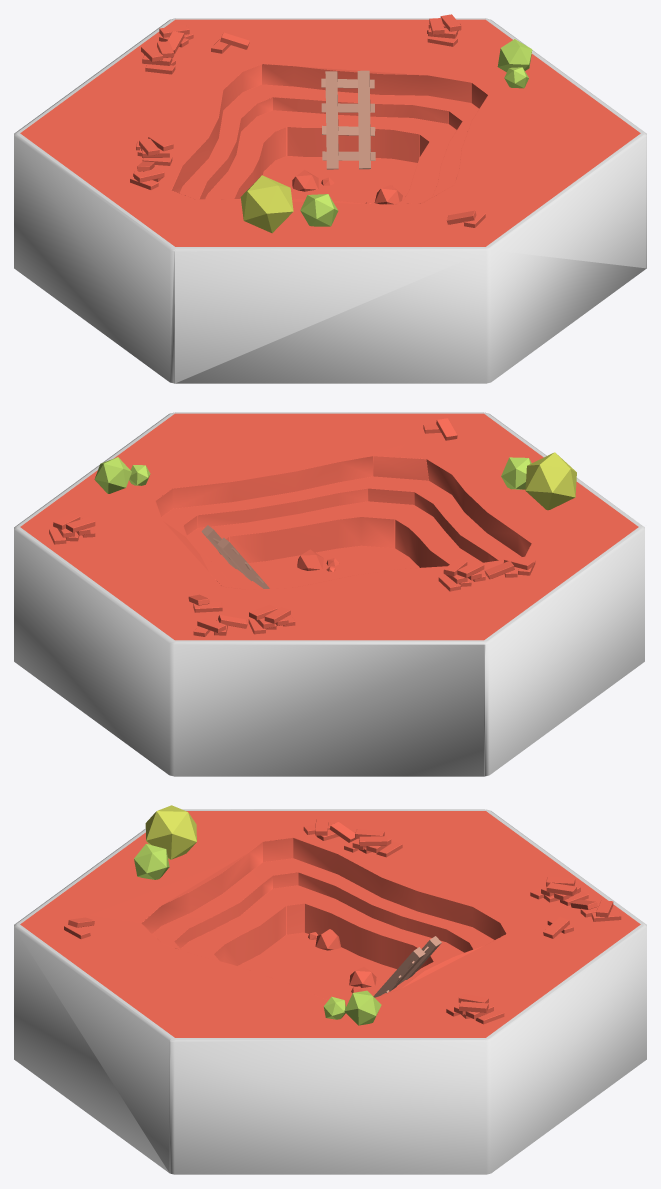
File: basetile_claypit_orig 1.fbx
3 renders of one model, top to bottom at view 1: azimuth 30°, elevation 25°; view 2: azimuth 150°, elevation 25°; view 3: azimuth 270°, elevation 25°, orthographic.
Parts seen in each view (by area): view 1: BasePlate, Cube.008, Icosphere.010, Icosphere.009, Cube.002, Cube.003, Cube.006, Icosphere.007, Cube.004, Cube.001; view 2: BasePlate, Icosphere.010, Cube.006, Cube.003, Cube.008, Cube.002, Icosphere.007, Cube.004, Cube.001, Icosphere.009; view 3: BasePlate, Icosphere.010, Cube.008, Cube.003, Cube.002, Cube.006, Icosphere.009, Icosphere.007, Cube.001, Cube.004.
Part boxes in pixels (bbox=[...]): BasePlate: bbox=[14, 18, 646, 383]; Cube.008: bbox=[321, 70, 375, 169]; Icosphere.010: bbox=[240, 175, 293, 233]; Icosphere.009: bbox=[300, 194, 338, 226]; Cube.002: bbox=[141, 41, 175, 74]; Cube.003: bbox=[136, 134, 173, 165]; Cube.006: bbox=[427, 14, 461, 46]; Icosphere.007: bbox=[497, 39, 532, 72]; Cube.004: bbox=[130, 161, 164, 189]; Cube.001: bbox=[159, 24, 193, 53]; BasePlate: bbox=[14, 412, 644, 776]; Icosphere.010: bbox=[525, 452, 576, 510]; Cube.006: bbox=[49, 513, 95, 544]; Cube.003: bbox=[438, 559, 485, 591]; Cube.008: bbox=[201, 525, 269, 588]; Cube.002: bbox=[248, 604, 295, 634]; Icosphere.007: bbox=[94, 457, 131, 493]; Cube.004: bbox=[484, 555, 535, 579]; Cube.001: bbox=[193, 614, 247, 636]; Icosphere.009: bbox=[501, 457, 531, 489]; BasePlate: bbox=[14, 809, 646, 1174]; Icosphere.010: bbox=[145, 805, 196, 859]; Cube.008: bbox=[373, 936, 441, 997]; Cube.003: bbox=[344, 829, 402, 857]; Cube.002: bbox=[530, 877, 588, 905]; Cube.006: bbox=[446, 993, 504, 1024]; Icosphere.009: bbox=[134, 844, 169, 879]; Icosphere.007: bbox=[344, 990, 381, 1025]; Cube.001: bbox=[570, 899, 621, 921]; Cube.004: bbox=[303, 819, 356, 842].
Size of the model in its own units: 177 by 63.73 by 204.
